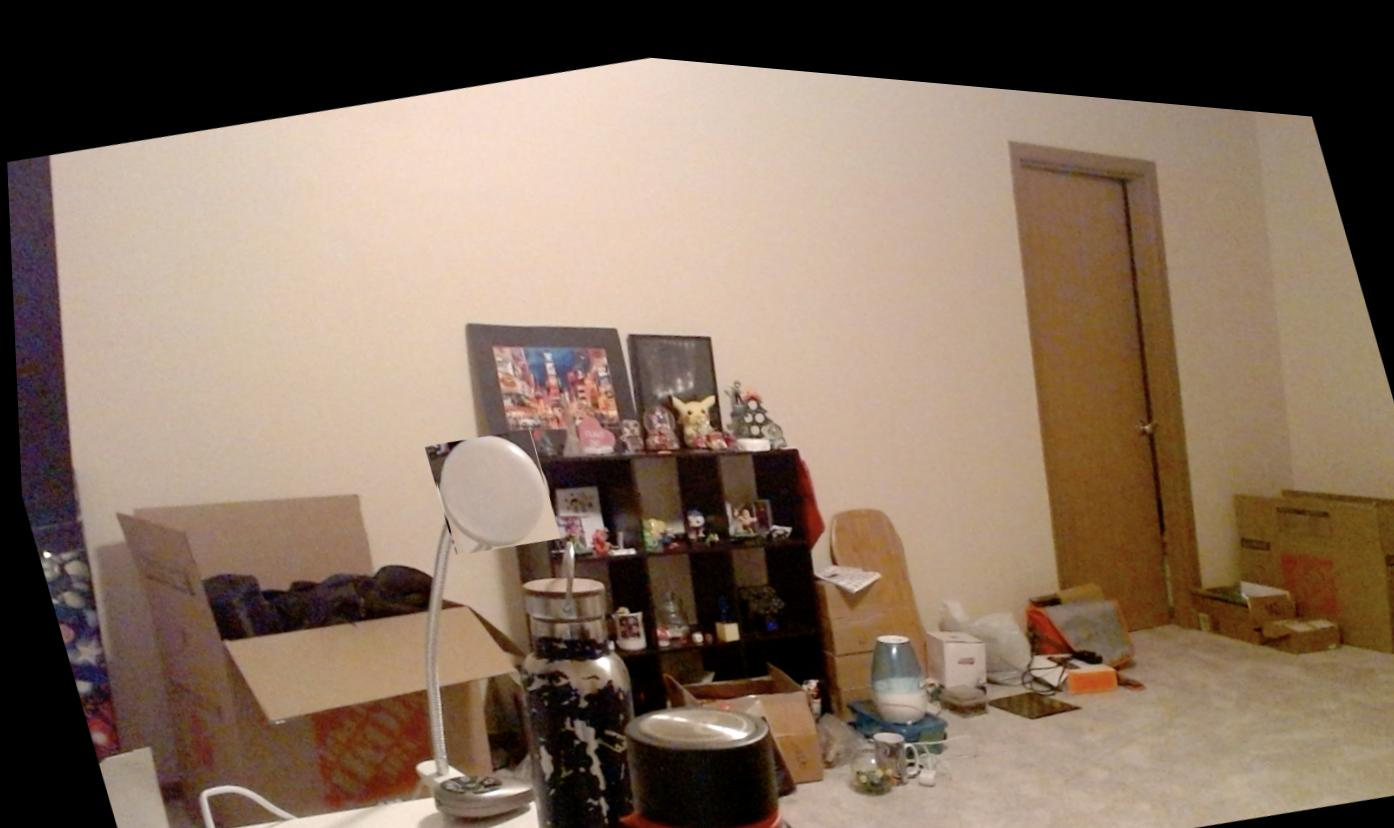Fan: (420, 412, 556, 553)
